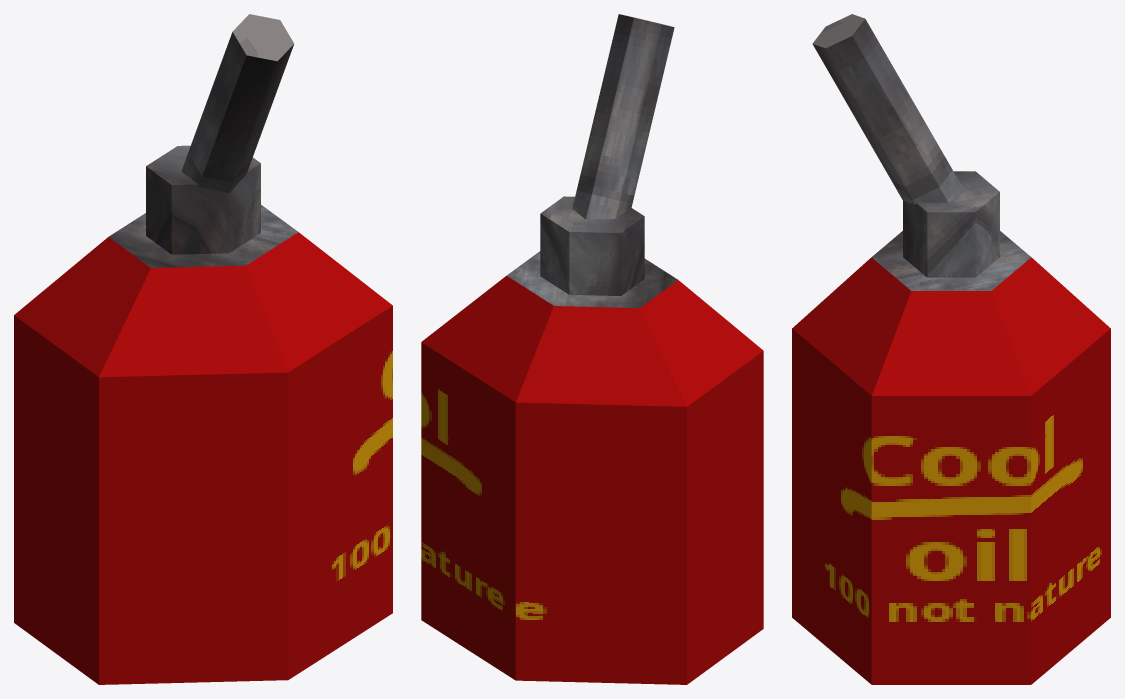
The model's file is pick_me_oil.glb.
3 views of the same model, side by side, from view 1: azimuth 30°, elevation 25°; view 2: azimuth 150°, elevation 25°; view 3: azimuth 270°, elevation 25° (orthographic). The views are drawn at different scales.
Visible parts, largest first — view 1: Cylinder.001; view 2: Cylinder.001; view 3: Cylinder.001.
Part boxes in pixels (box(x1,y1,x2,y2)): Cylinder.001: box(14, 14, 392, 684); Cylinder.001: box(421, 14, 763, 684); Cylinder.001: box(792, 14, 1110, 684).
Size of the model in its own units: 0.5 by 1.04 by 0.5.
Materials: 1 (1 with a texture image).
